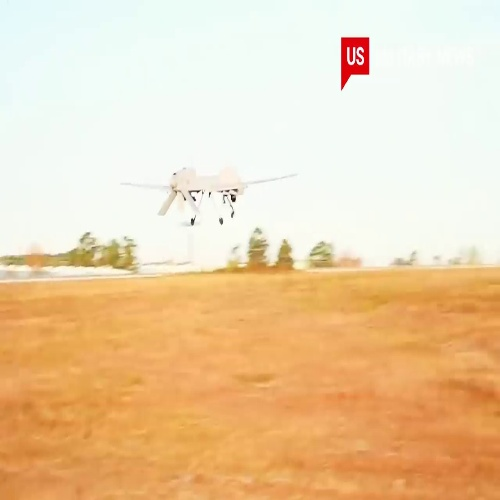uav: (118, 160, 297, 227)
